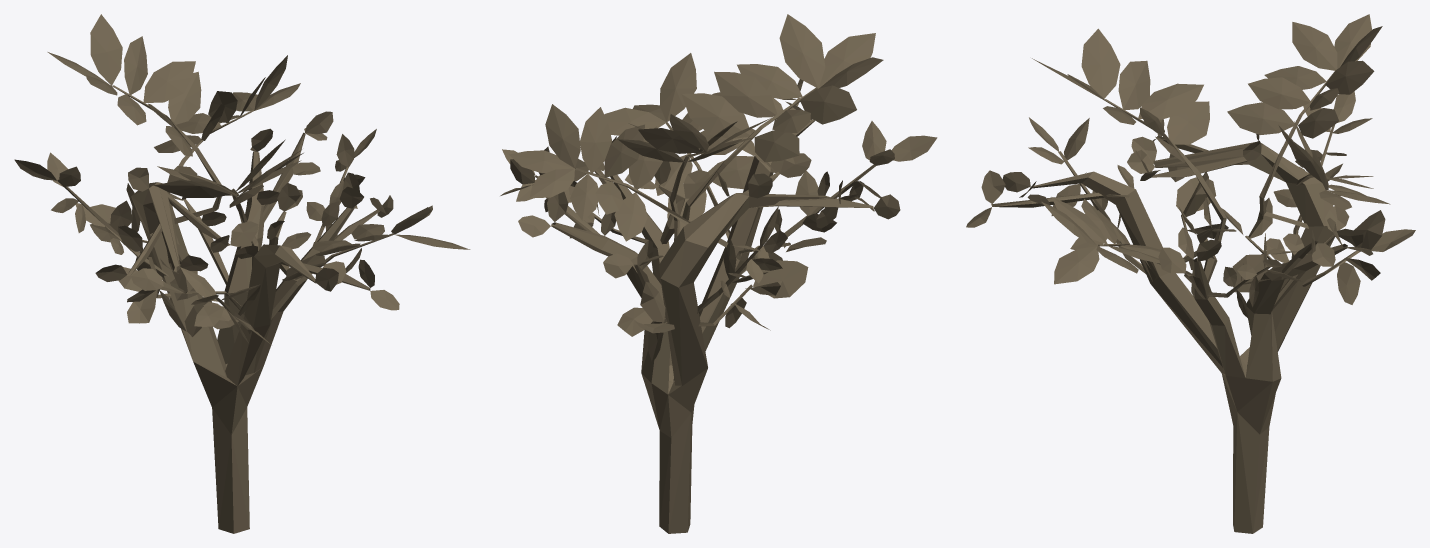
The model's file is Cherry_6_2.fbx.
3 renders of one model, left to right at view 1: azimuth 30°, elevation 25°; view 2: azimuth 150°, elevation 25°; view 3: azimuth 270°, elevation 25°, orthographic.
Visible parts, largest first — view 1: Cherry_6_2; view 2: Cherry_6_2; view 3: Cherry_6_2.
Boxes of the visible parts, bbox=[...] form: Cherry_6_2: bbox=[14, 14, 470, 533]; Cherry_6_2: bbox=[500, 14, 937, 533]; Cherry_6_2: bbox=[966, 14, 1415, 533].
Size of the model in its own units: 285 by 384 by 332.
